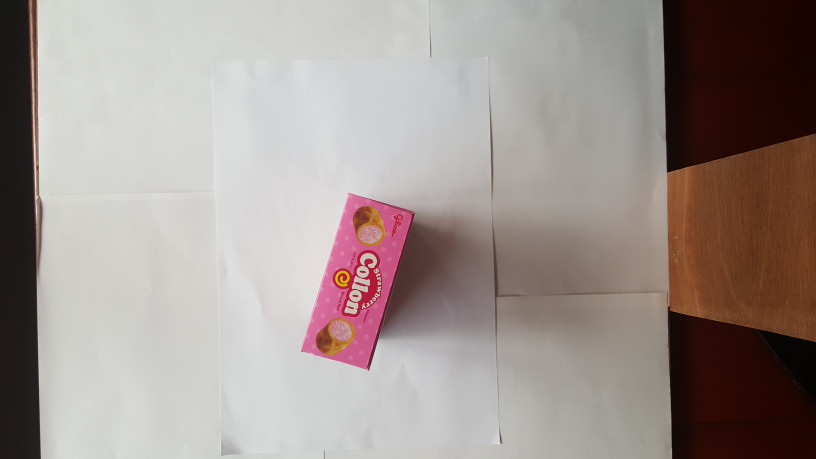collon-strawberry: (296, 190, 416, 370)
